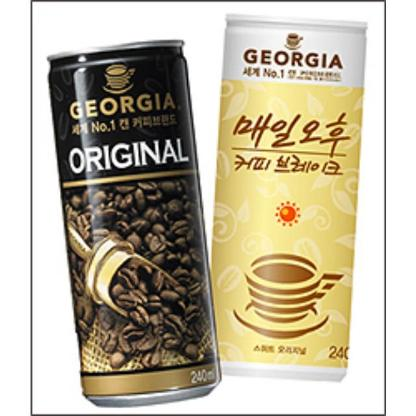Can: (44, 39, 228, 411)
